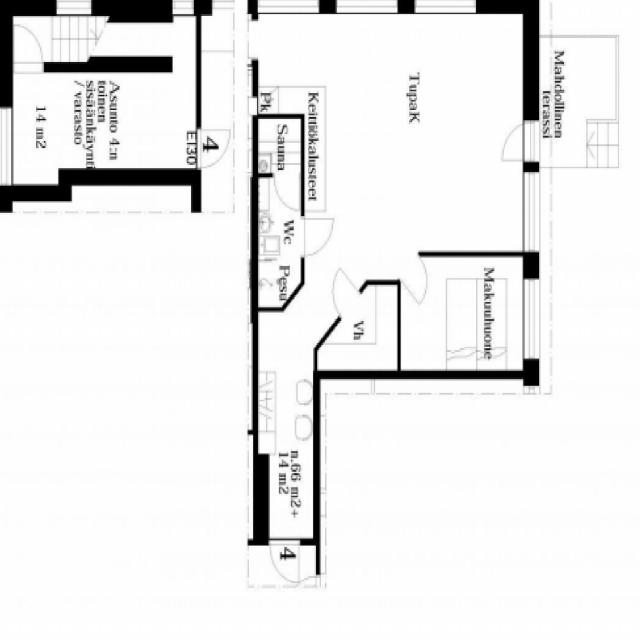door: (321, 264, 362, 318), (401, 253, 439, 304), (494, 120, 540, 162), (13, 23, 44, 71), (197, 127, 232, 167), (272, 539, 300, 582), (302, 218, 334, 255), (274, 172, 301, 210)
